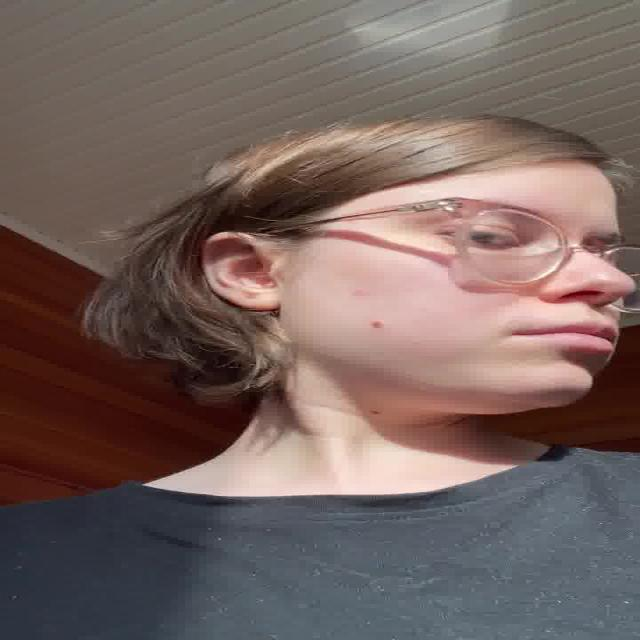earlobe: (241, 285, 281, 311)
eye: (432, 222, 526, 250)
nose: (547, 296, 634, 324)
wholeear: (201, 232, 281, 312)
